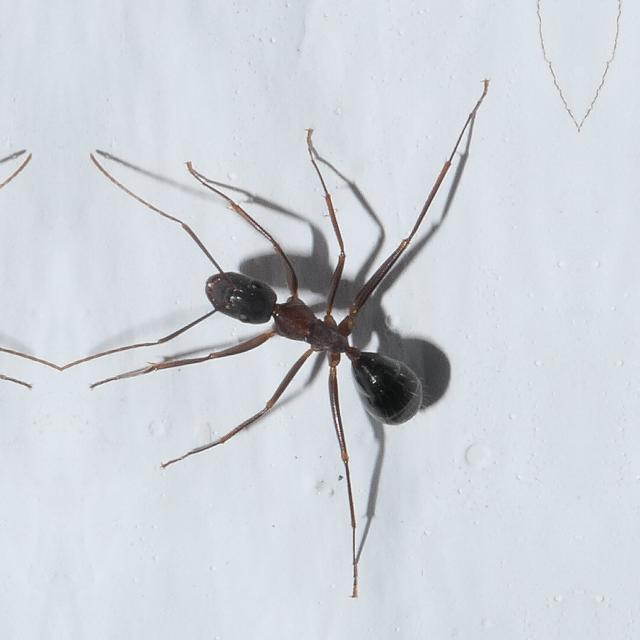Camponotus: (176, 233, 454, 435)
